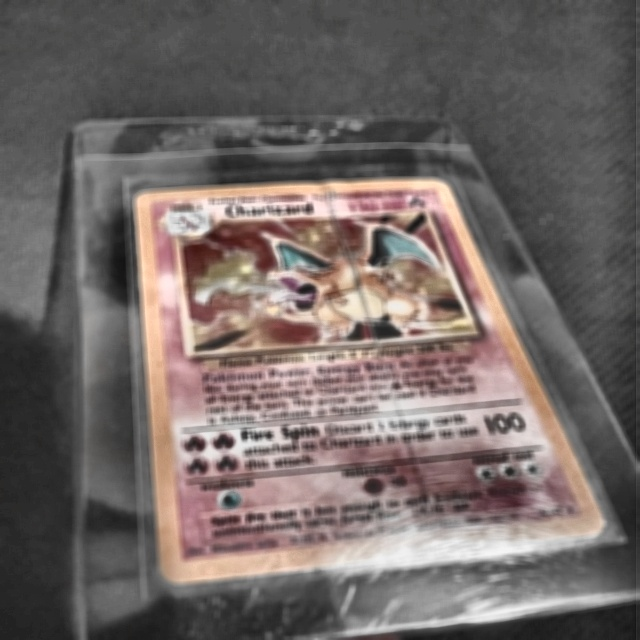card: (132, 177, 616, 588)
